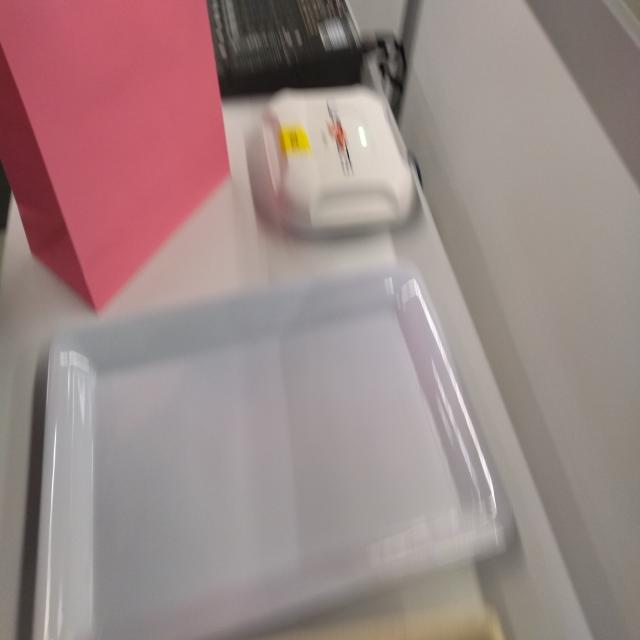tray: (31, 256, 514, 640)
